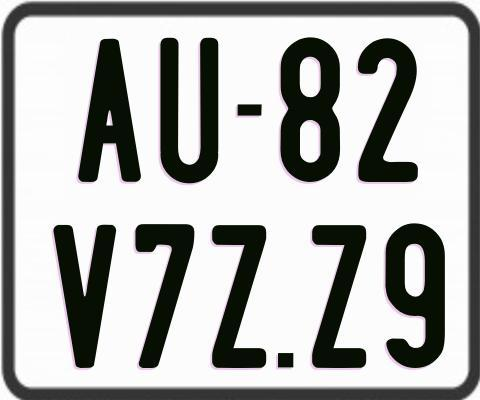2: (357, 38, 423, 184)
7: (135, 221, 195, 369)
8: (279, 35, 342, 180)
9: (383, 220, 446, 368)
A: (76, 38, 145, 186)
U: (158, 38, 221, 184)
V: (50, 224, 118, 372)
Z: (209, 224, 268, 371), (311, 223, 368, 371)
